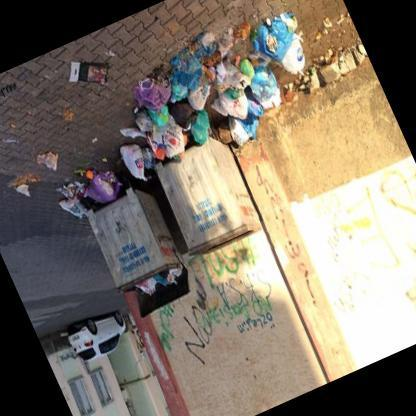Garbage: (94, 84, 232, 188), (128, 46, 212, 126), (255, 8, 319, 84), (163, 0, 225, 67), (48, 176, 118, 227), (240, 60, 286, 113), (218, 93, 262, 146), (217, 50, 261, 100), (134, 264, 187, 304), (37, 140, 75, 184), (14, 176, 52, 216)
